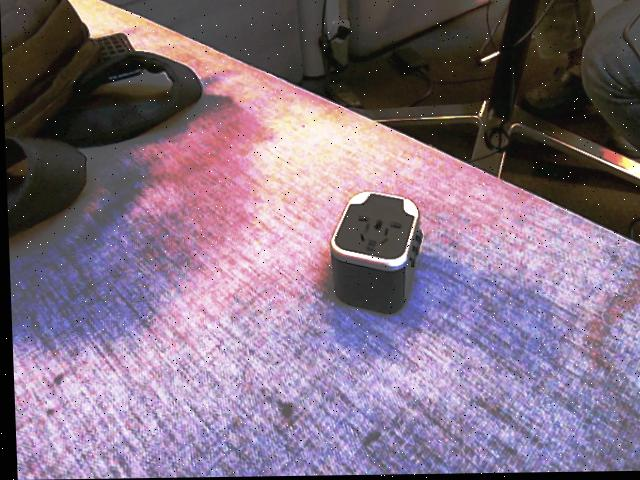adapter: (325, 191, 422, 316)
